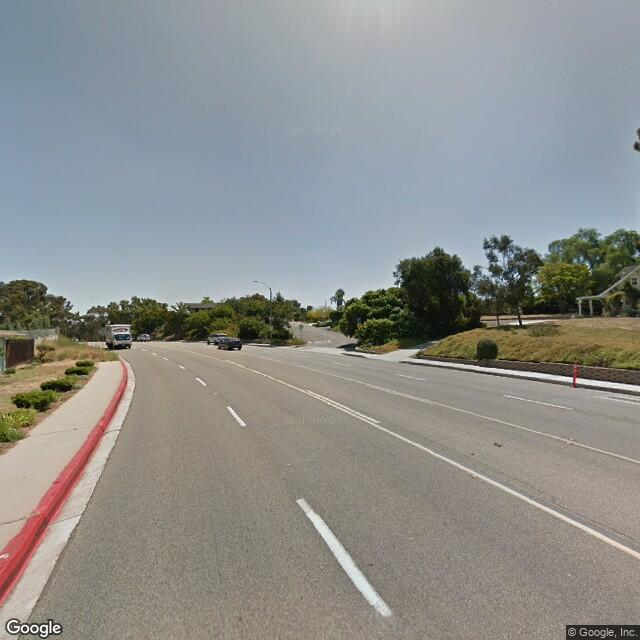litter: (492, 438, 505, 450)
